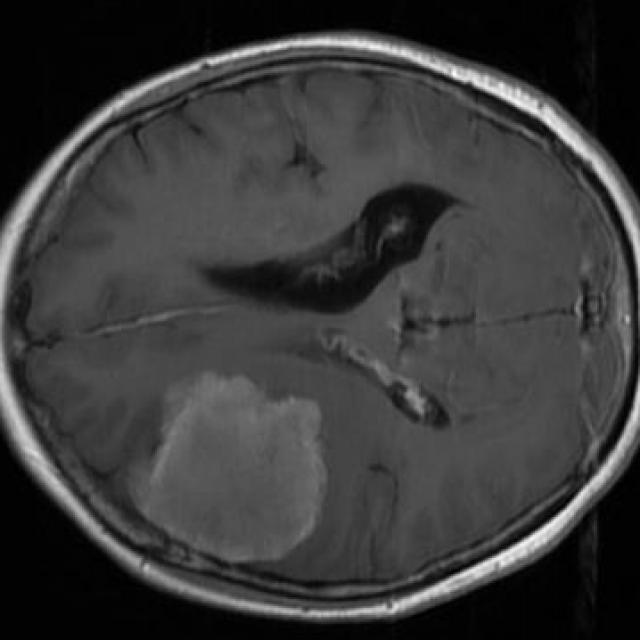meningioma: (143, 373, 319, 556)
